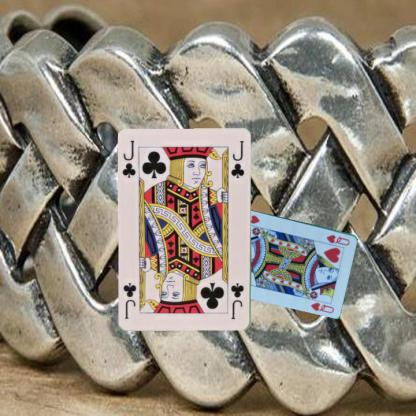Jc: (228, 281, 246, 321), (120, 138, 137, 180)
Qh: (324, 232, 351, 246)
